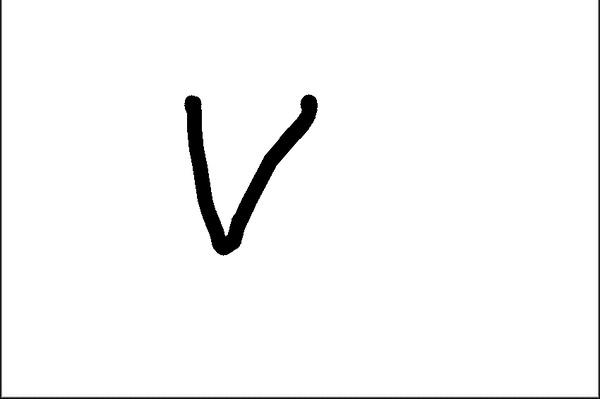V: (176, 86, 323, 260)
